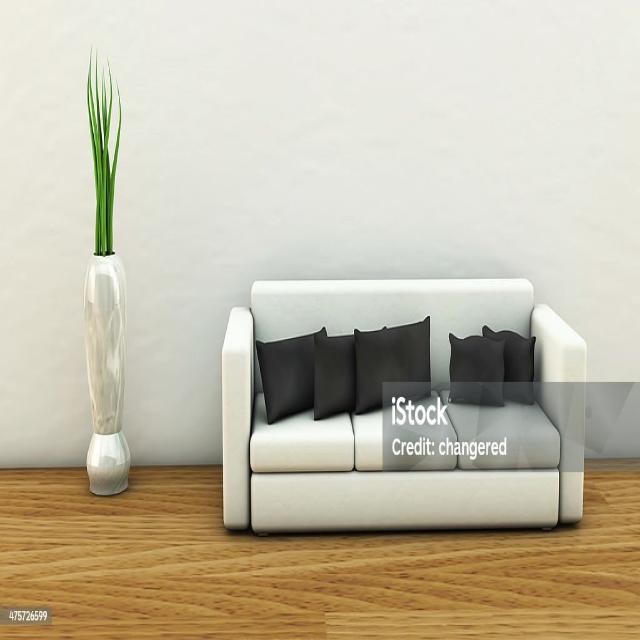back_cushion: (251, 279, 533, 383)
base: (251, 469, 566, 532)
left_arm: (531, 304, 586, 521)
right_arm: (222, 308, 253, 528)
seat_cushion: (250, 393, 560, 472)
stallion-sofa1: (0, 0, 639, 639)
